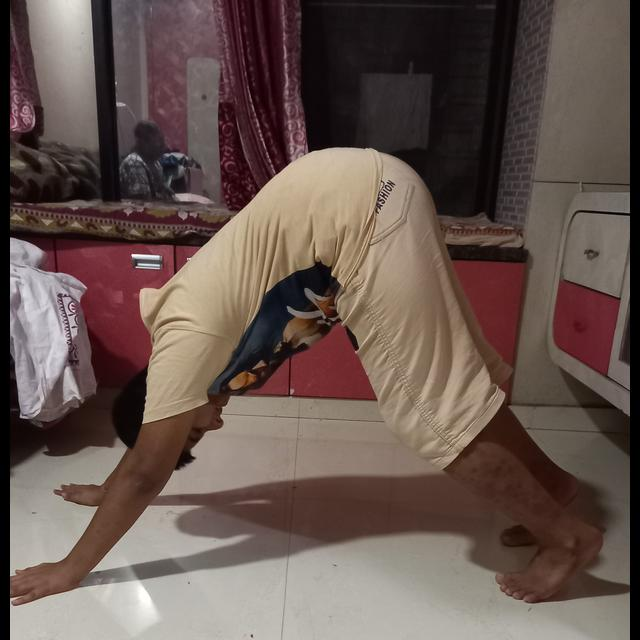Downward-Facing_Dog: (8, 136, 611, 627)
